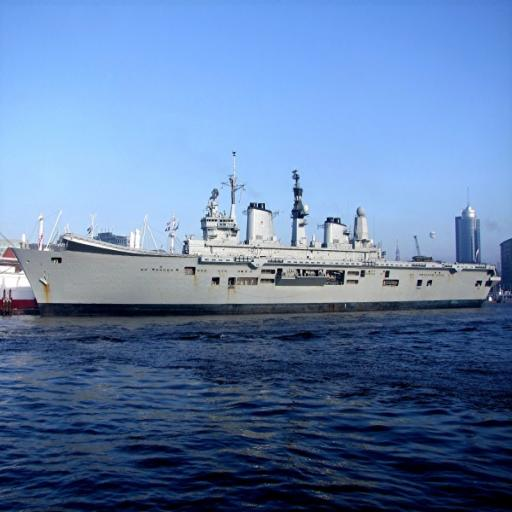Portanaves: (6, 140, 508, 324)
